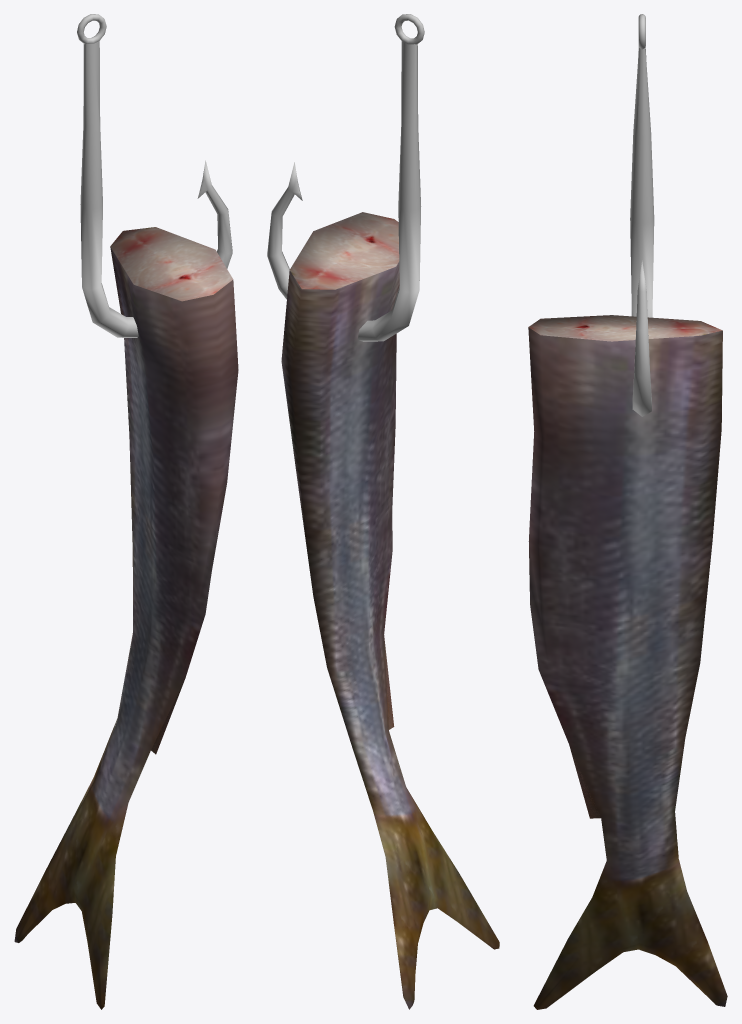
The model's file is Bait_Capelin.fbx.
3 views of the same model, side by side, from view 1: azimuth 30°, elevation 25°; view 2: azimuth 150°, elevation 25°; view 3: azimuth 270°, elevation 25° (orthographic). The views are drawn at different scales.
Parts seen in each view (by area): view 1: Bait_Capelin; view 2: Bait_Capelin; view 3: Bait_Capelin.
Boxes of the visible parts, <box> form: Bait_Capelin: <box>14,14,238,1009</box>; Bait_Capelin: <box>267,14,499,1009</box>; Bait_Capelin: <box>528,14,727,1009</box>.
Bounding box in the file's own units: 0.2464 × 1.24 × 0.2201.
